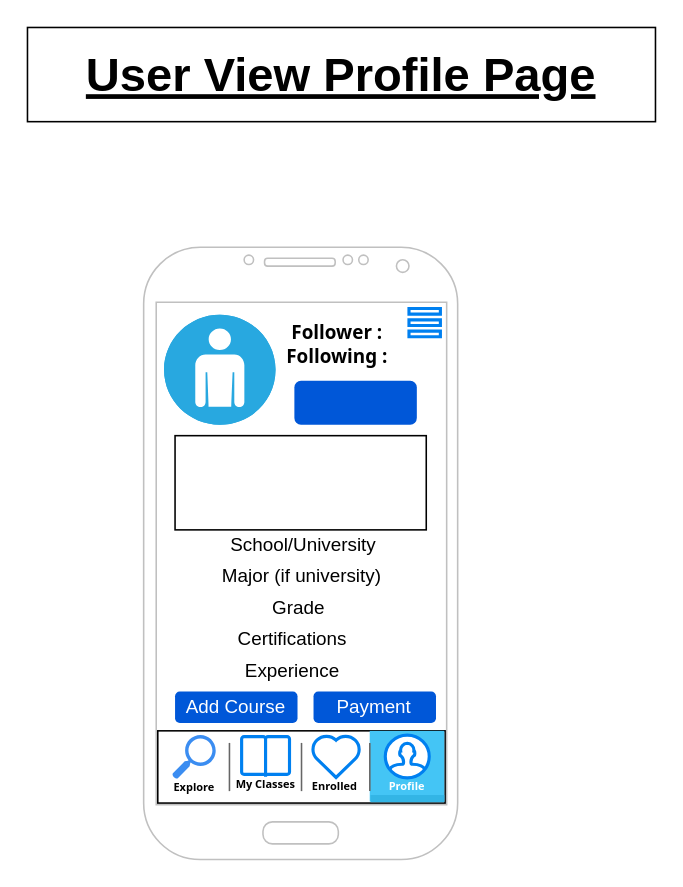
Image size: 683x887. Some labels were removed from this diagram. The shapes that lost their labels are listed below. From the top down, each one's centre as x and y in pixels, then its label:
At pixel 355 402: "Edit Profile".
At pixel 299 482: "Add Bio".
